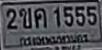1: (53, 6, 59, 26)
2: (6, 8, 16, 28)
5: (74, 5, 84, 26), (63, 6, 73, 26), (86, 5, 96, 25)
A02: (18, 7, 32, 28)
A04: (34, 7, 46, 28)
BKK: (16, 32, 91, 45)
